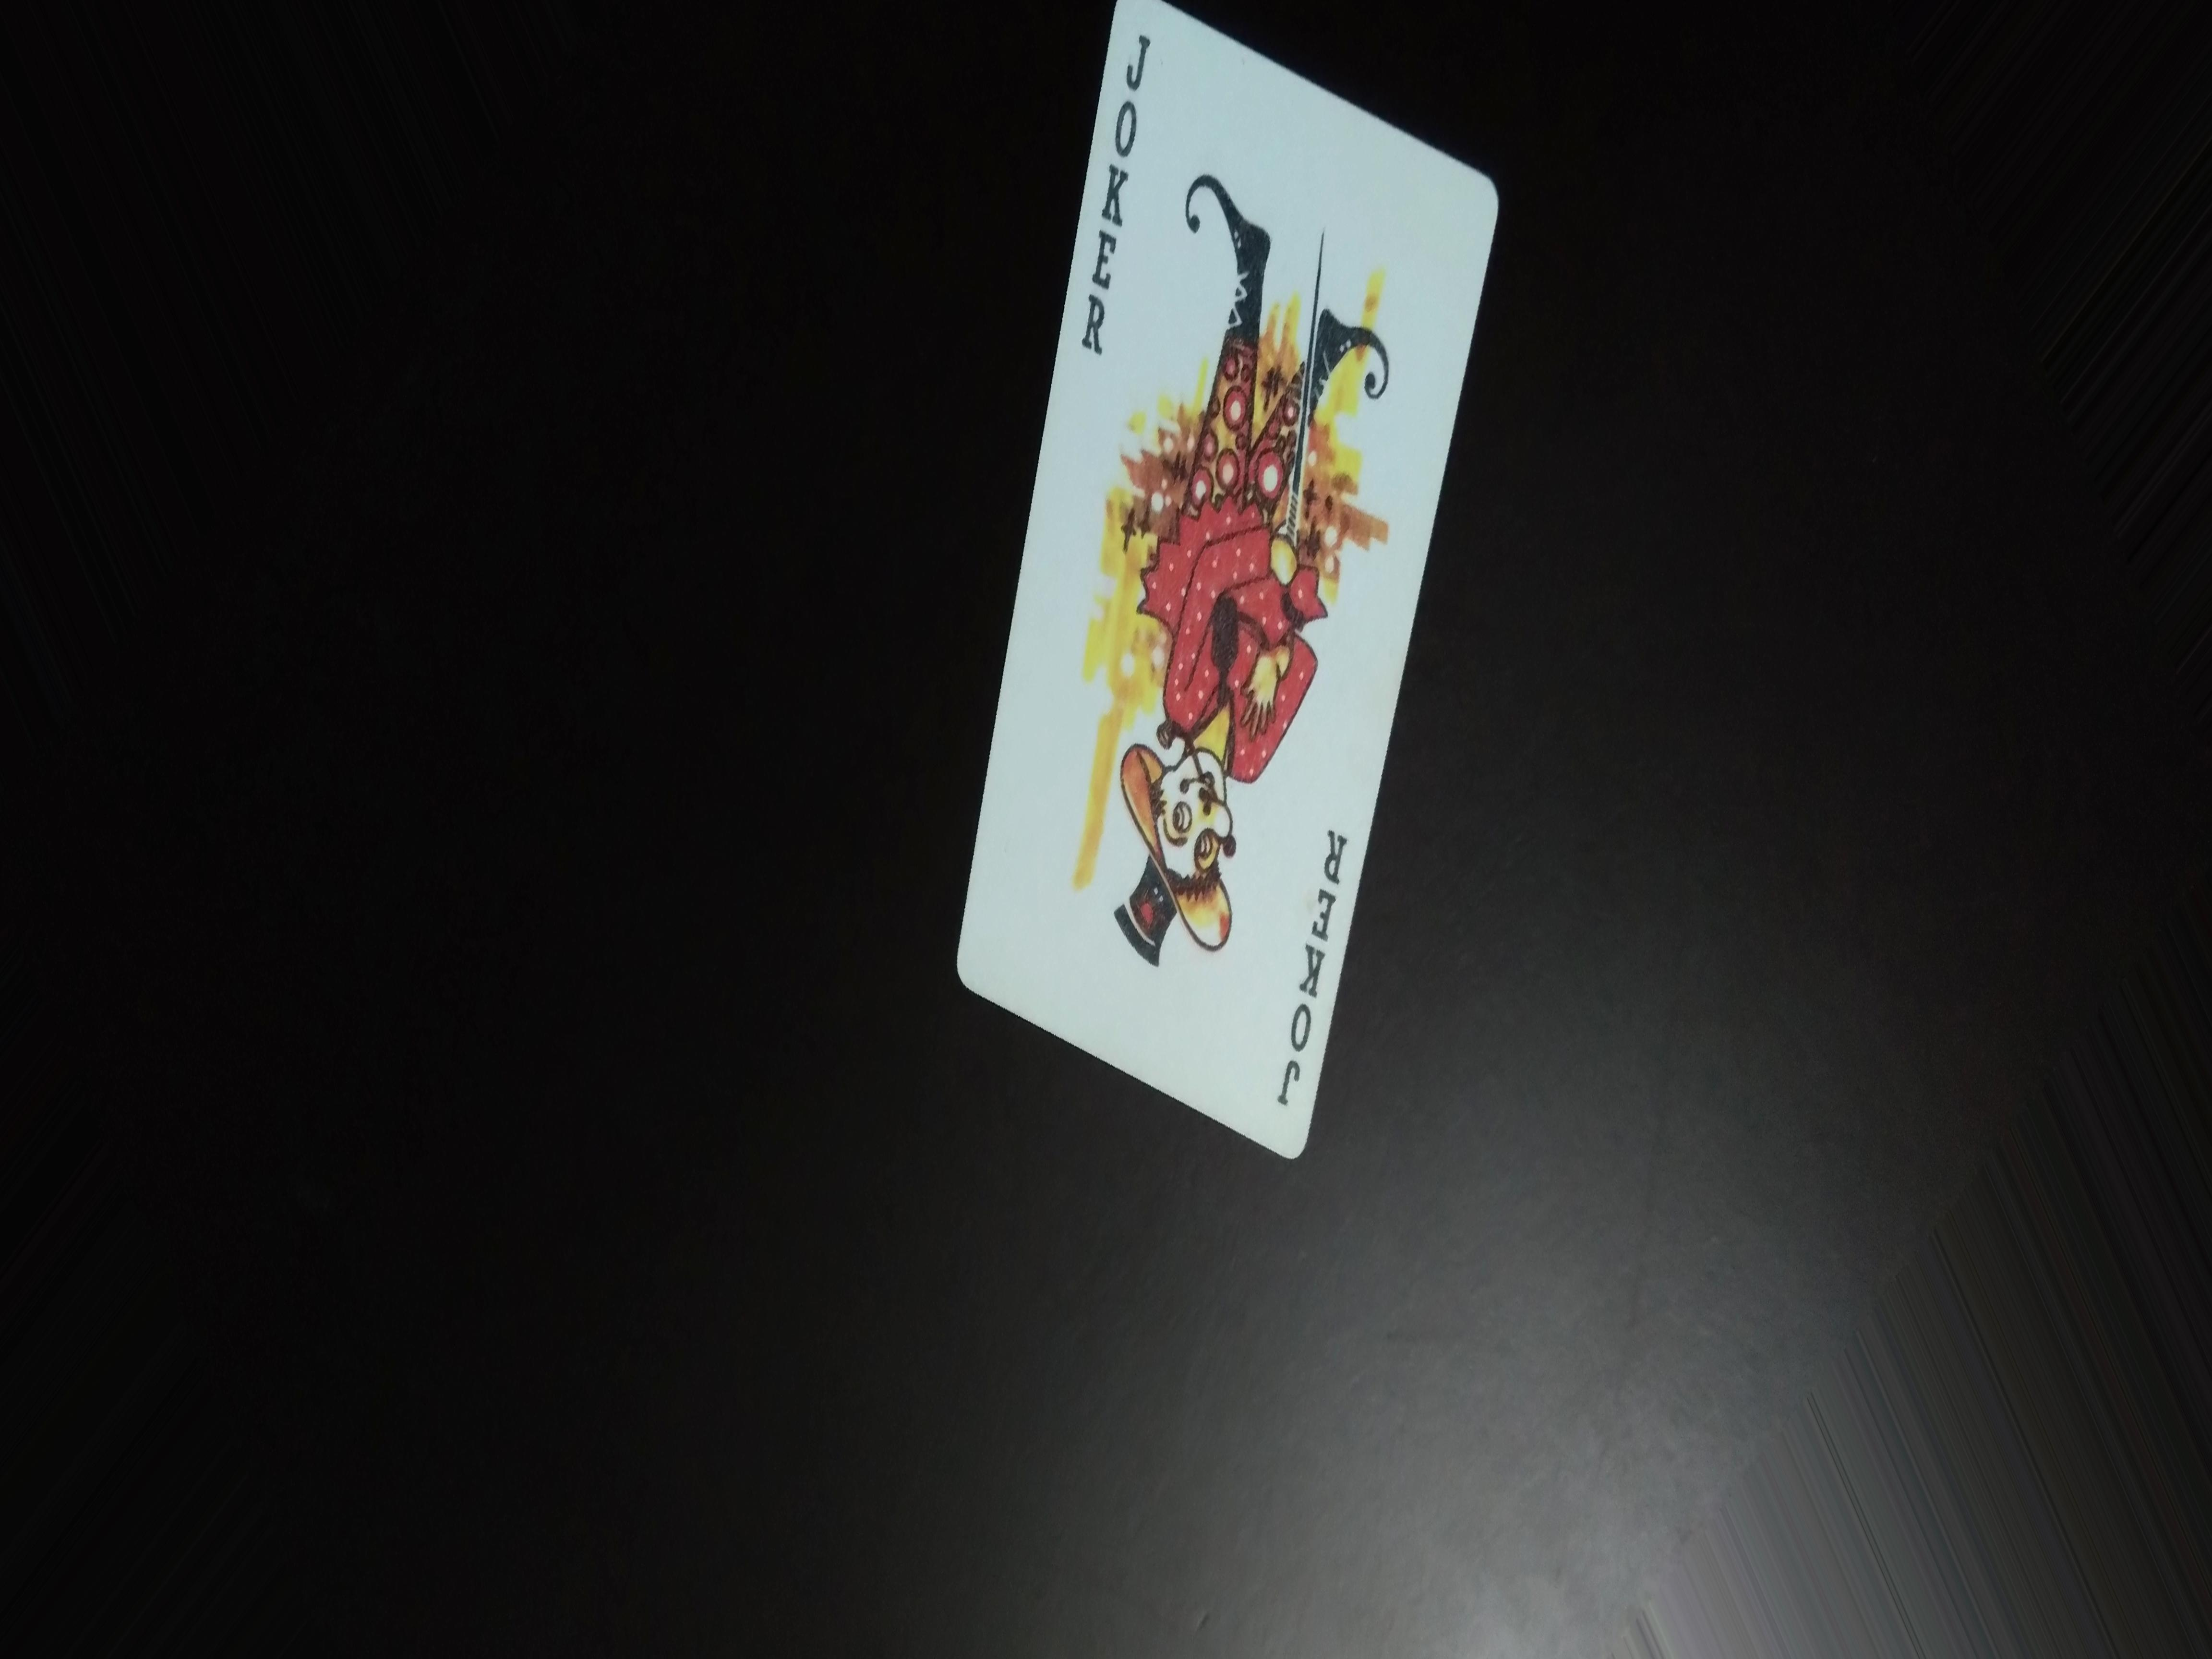JOKER: (1075, 14, 1148, 378)
